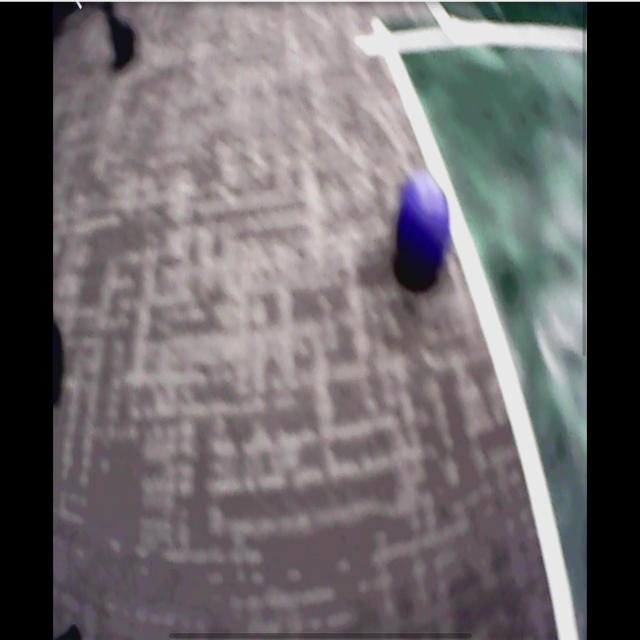ball: (397, 177, 450, 272)
